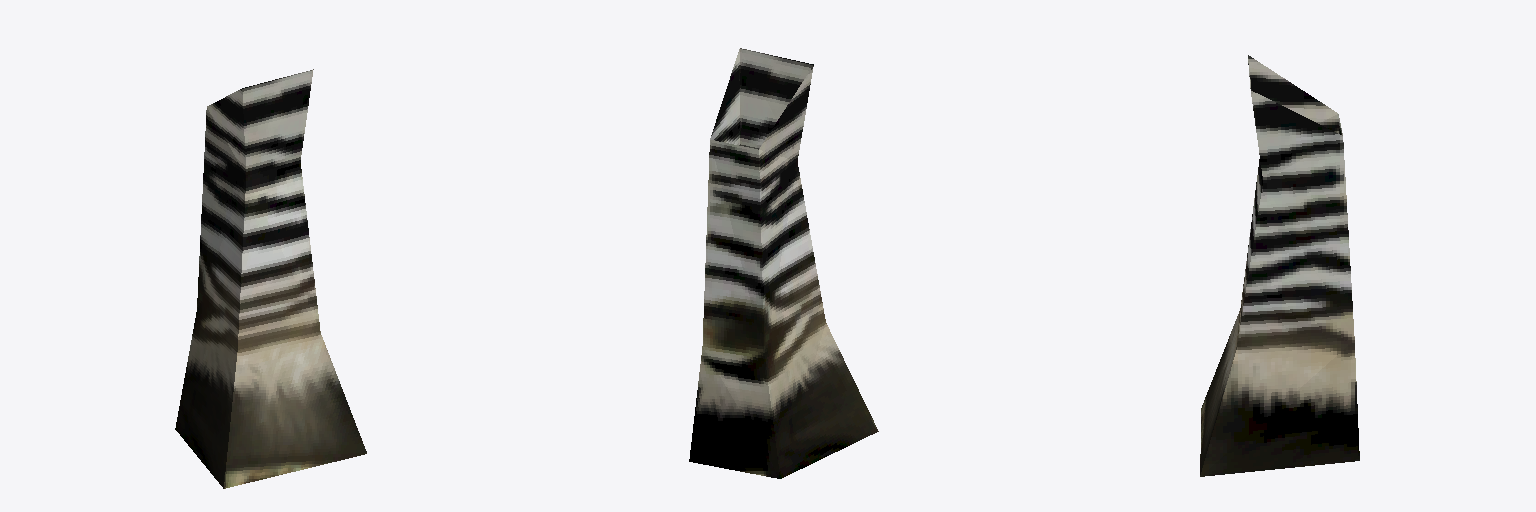
The picture shows the model from 3 angles: view 1: azimuth 30°, elevation 25°; view 2: azimuth 150°, elevation 25°; view 3: azimuth 270°, elevation 25°; orthographic projection.
Parts seen in each view (by area): view 1: ZFRD; view 2: ZFRD; view 3: ZFRD.
Boxes of the visible parts, x1,y1,x2,y2 form: ZFRD: [175, 69, 366, 488]; ZFRD: [689, 48, 878, 478]; ZFRD: [1200, 55, 1359, 476].
Bounding box in the file's own units: 0.2357 × 0.5887 × 0.2283.
Materials: 1 (1 with a texture image).